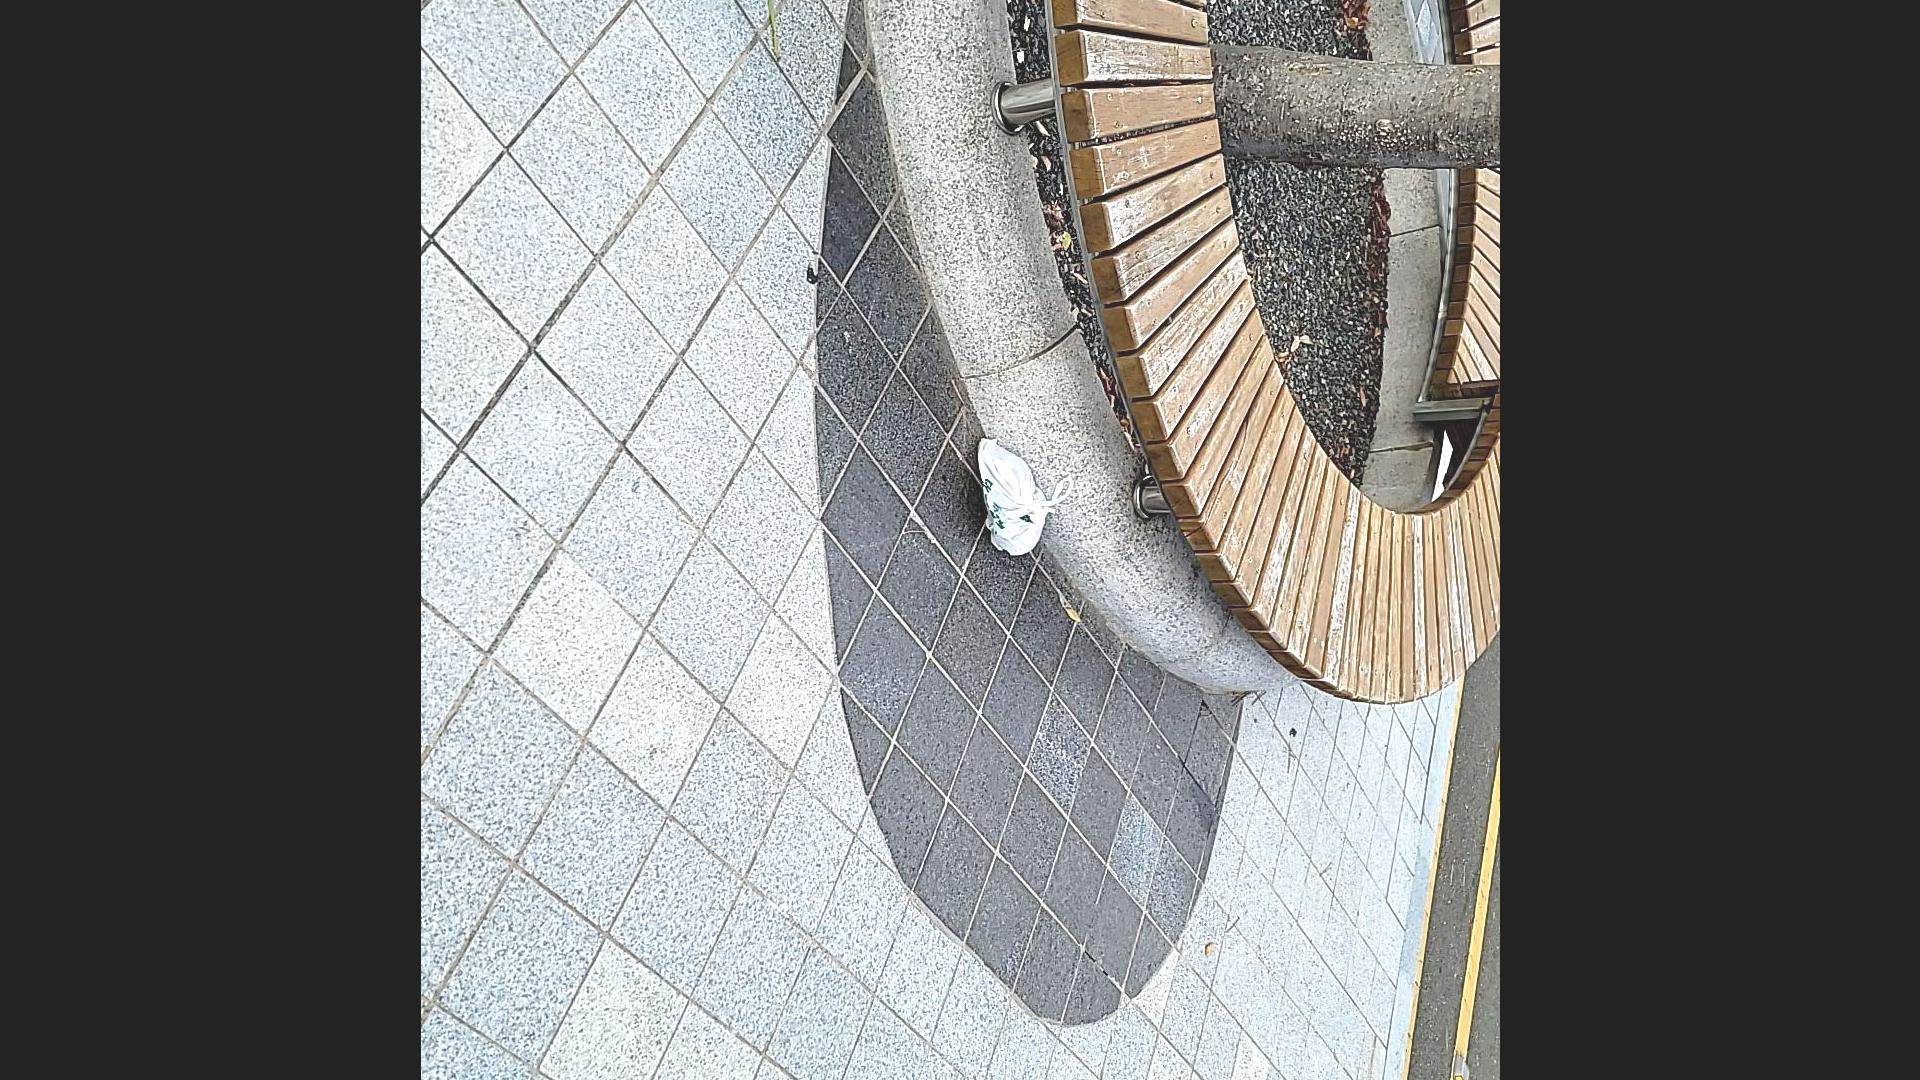white_bag: (969, 427, 1077, 559)
